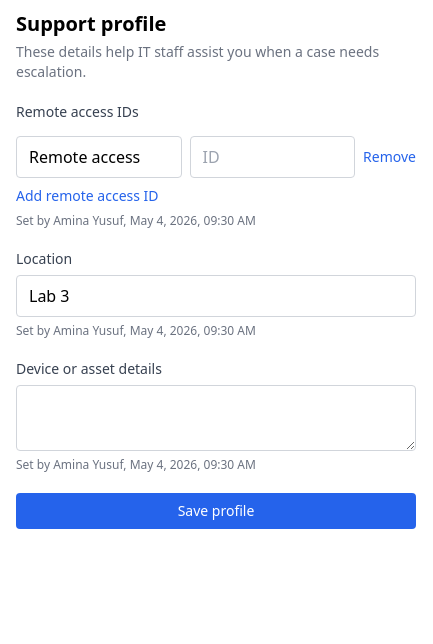
Test case: ProfilePage › PP-009: a field locked while the page was open is explained, not silently discarded
Replace the text in the field labelled "Location" with "Lab 4". click: (216, 296)
box: [16, 275, 416, 317]
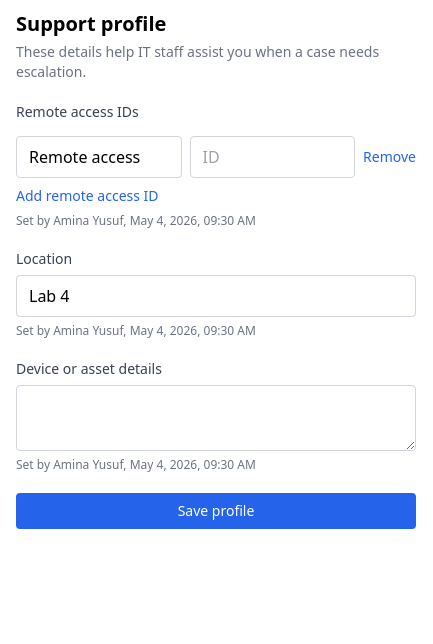
Click the button "Save profile". click: (216, 511)
box: [16, 493, 416, 529]
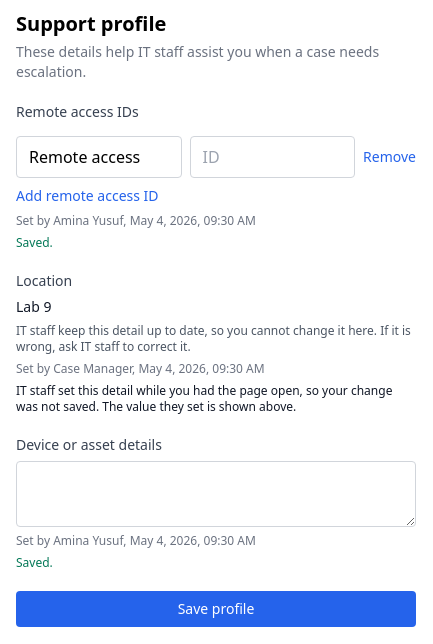
Expected: the text "IT staff set this detail while you had the page open, so your change was not saved. The value they set is shown above." is shown, [16, 382, 392, 415]
Expected: the text "Lab 9" is shown, [16, 297, 52, 316]
